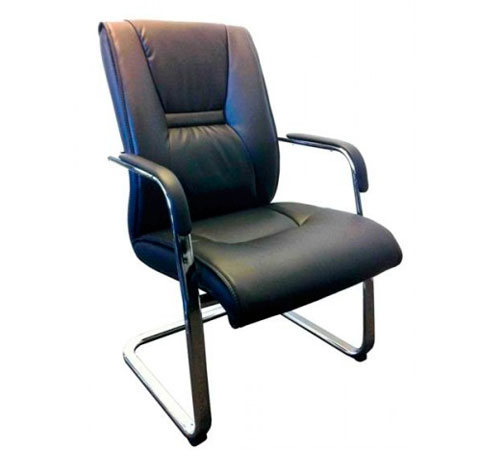chairs: (91, 17, 406, 449)
